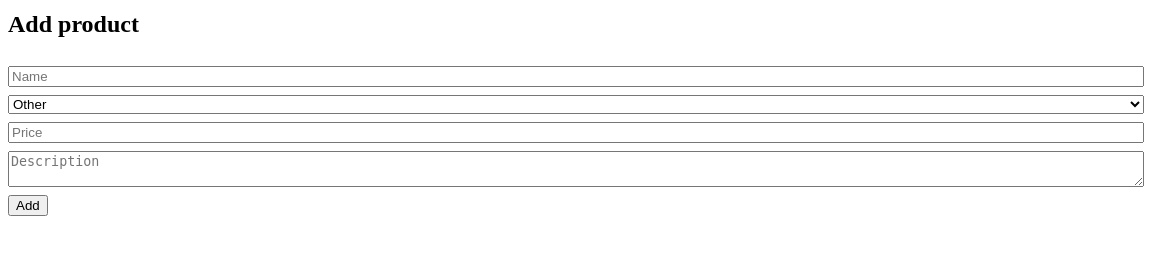
Test case: validates required name
Step 1. Type "10" into the number field labelled "Price" → [576, 132], box [8,122,1144,143]
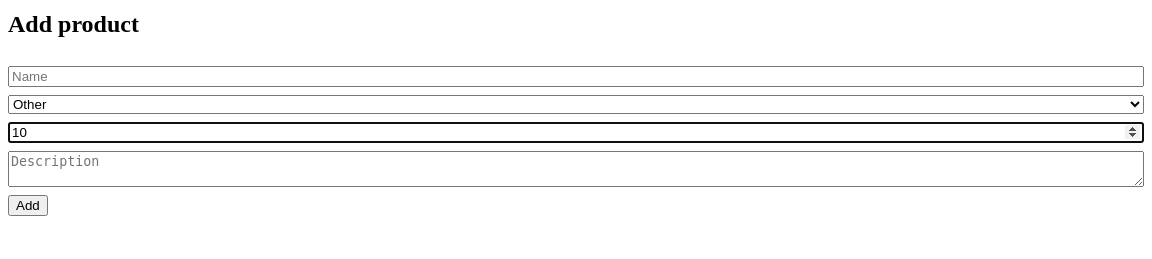
Step 2. Click the button "Add" → [28, 205], box [8,195,48,216]
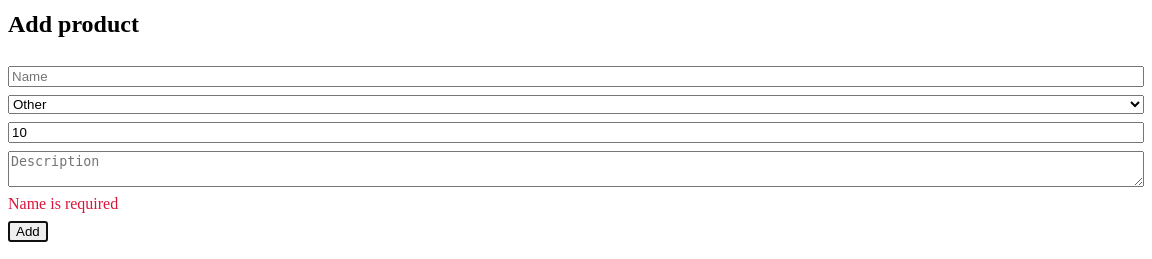
expect the message reads "Name is required": met, box [8,195,118,212]
